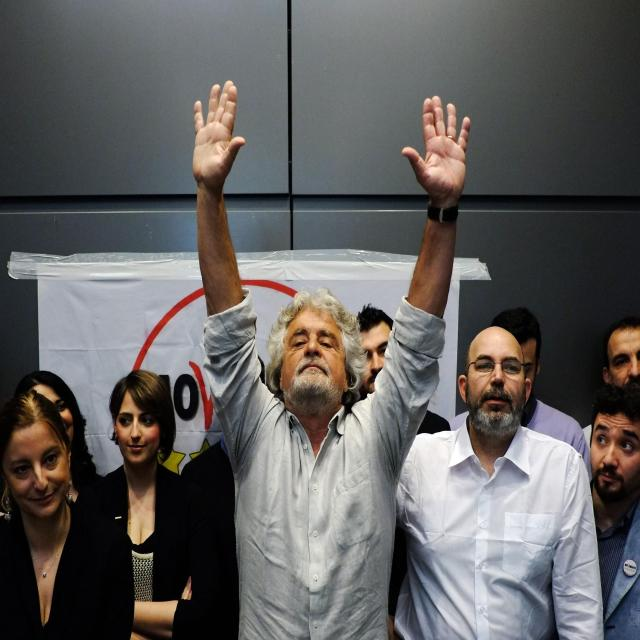body: (183, 77, 479, 640), (386, 324, 607, 640), (62, 366, 222, 640), (1, 388, 136, 639), (356, 302, 451, 640), (178, 357, 269, 640), (448, 305, 592, 482), (584, 382, 639, 640), (12, 368, 104, 516), (579, 313, 640, 452)
